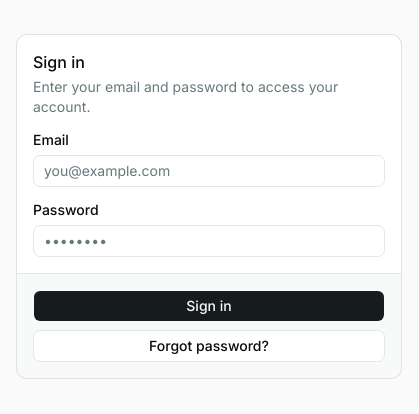
Scenario: Login page › shows an error when login returns success:false
Type "bad@example.com" into the field labelled "Email" at (209, 170), box [33,154,385,186]
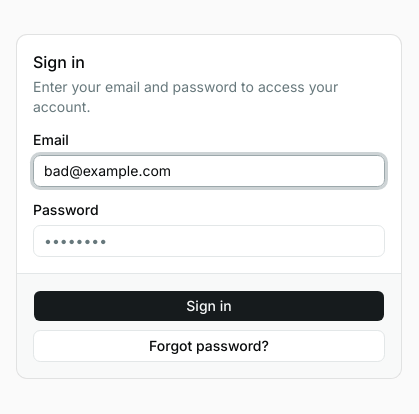
Type "wrong" into the password field labelled "Password" at (209, 240), box [33,224,385,256]
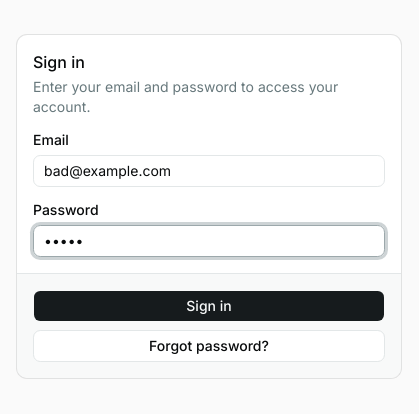
Click the button "Sign in" at (209, 306), box [33,290,385,322]
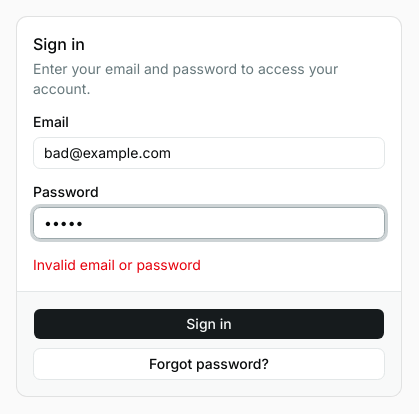
Check: the text "Invalid email or password" is shown, box [33,256,201,272]
